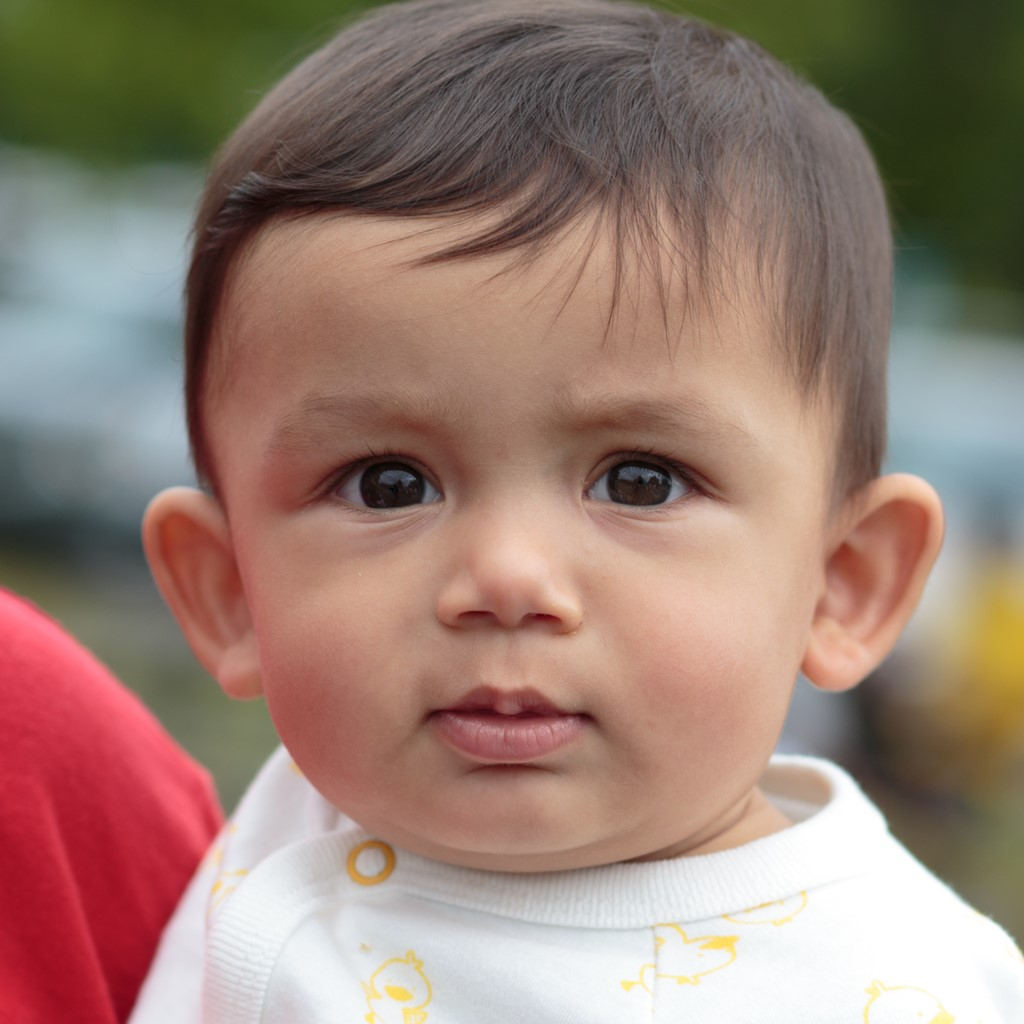sin_mascara: (175, 62, 868, 858)
